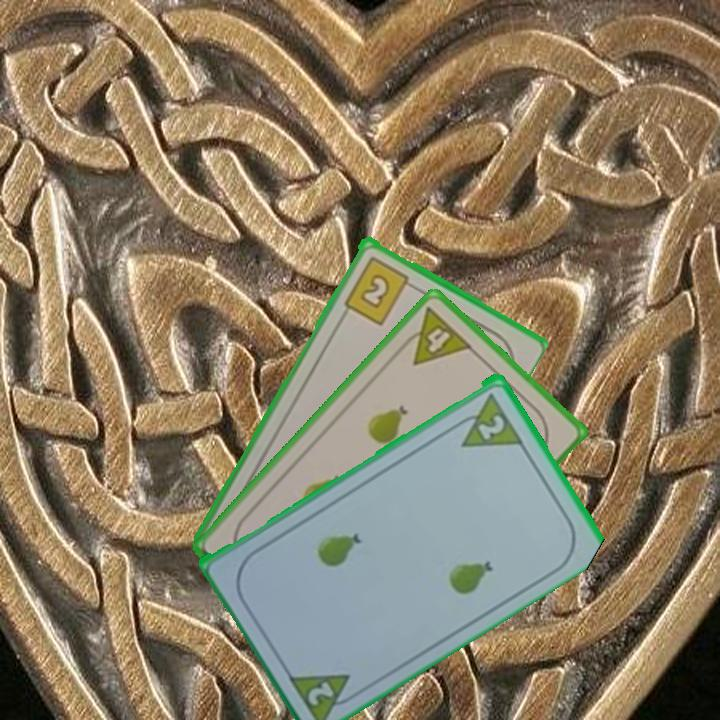2b: (340, 252, 419, 328)
2p: (448, 388, 525, 450), (304, 677, 337, 708)
4p: (394, 302, 475, 368)
